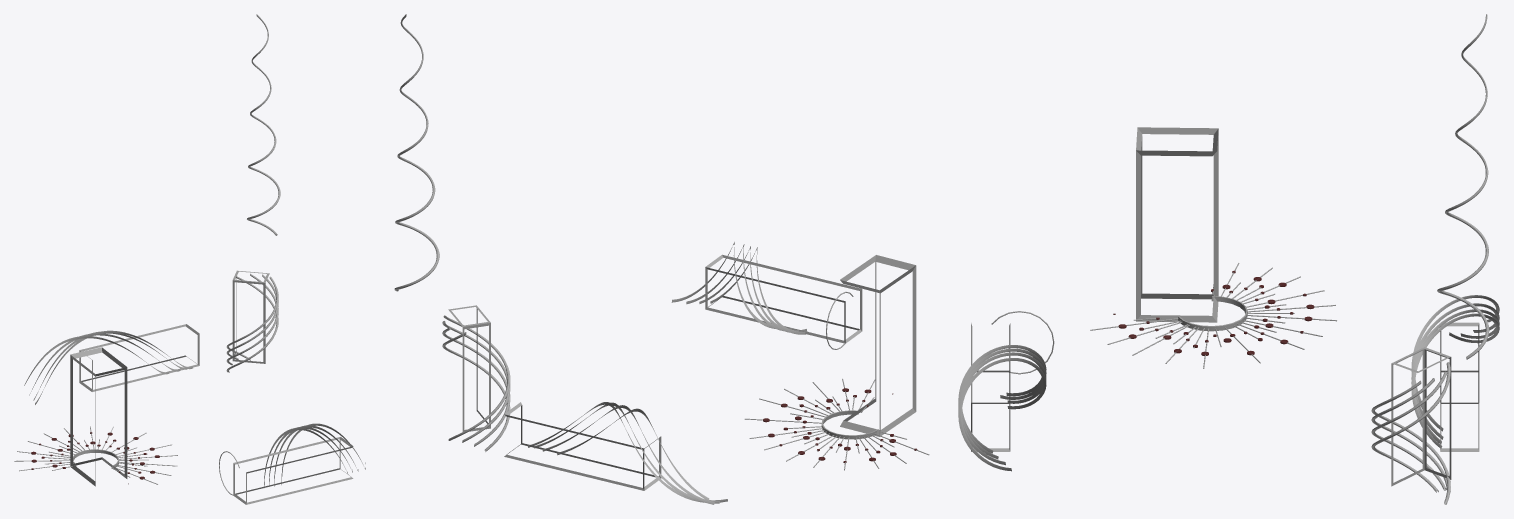
The model's file is StaticHolsters.fbx.
3 views of the same model, side by side, from view 1: azimuth 30°, elevation 25°; view 2: azimuth 150°, elevation 25°; view 3: azimuth 270°, elevation 25° (orthographic). The views are drawn at different scales.
Visible parts, largest first — view 1: Light3 (×2), Clockfloor:polySurface1, Holster3, HangingLight, CubeEdge; view 2: Light3 (×2), Holster3, Clockfloor:polySurface1, HangingLight, CubeEdge; view 3: Holster3, Clockfloor:polySurface1, CubeEdge, HangingLight, Light3 (×2), pHelix9, pHelix14, pHelix8, pHelix10, pHelix6, pHelix11, pHelix5 (+4 smaller).
Part boxes in pixels (<box>): Light3 (×2): <box>79,324,353,504</box>; Clockfloor:polySurface1: <box>14,426,177,484</box>; Holster3: <box>70,347,127,486</box>; HangingLight: <box>247,14,280,235</box>; CubeEdge: <box>232,270,269,363</box>; Light3 (×2): <box>504,254,862,490</box>; Holster3: <box>840,255,916,436</box>; Clockfloor:polySurface1: <box>744,378,929,470</box>; HangingLight: <box>394,14,439,291</box>; CubeEdge: <box>448,305,490,432</box>; Holster3: <box>1136,127,1218,322</box>; Clockfloor:polySurface1: <box>1090,263,1336,368</box>; CubeEdge: <box>1391,347,1451,486</box>; HangingLight: <box>1437,14,1489,359</box>; Light3 (×2): <box>971,322,1479,451</box>; pHelix9: <box>958,358,1046,471</box>; pHelix14: <box>1411,313,1499,447</box>; pHelix8: <box>958,352,1046,465</box>; pHelix10: <box>958,348,1046,459</box>; pHelix6: <box>1371,362,1450,492</box>; pHelix11: <box>958,345,1046,453</box>; pHelix5: <box>1371,371,1447,490</box>.
Size of the model in its own units: 3.32 by 3.2 by 3.07.
